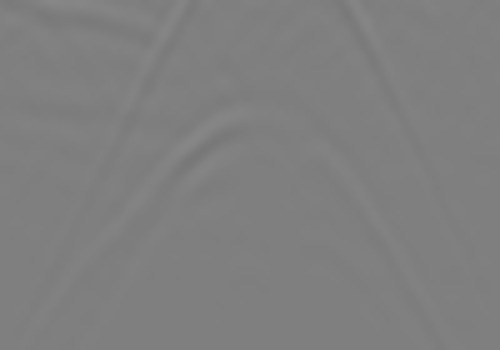hyperbola: (73, 106, 434, 294)
